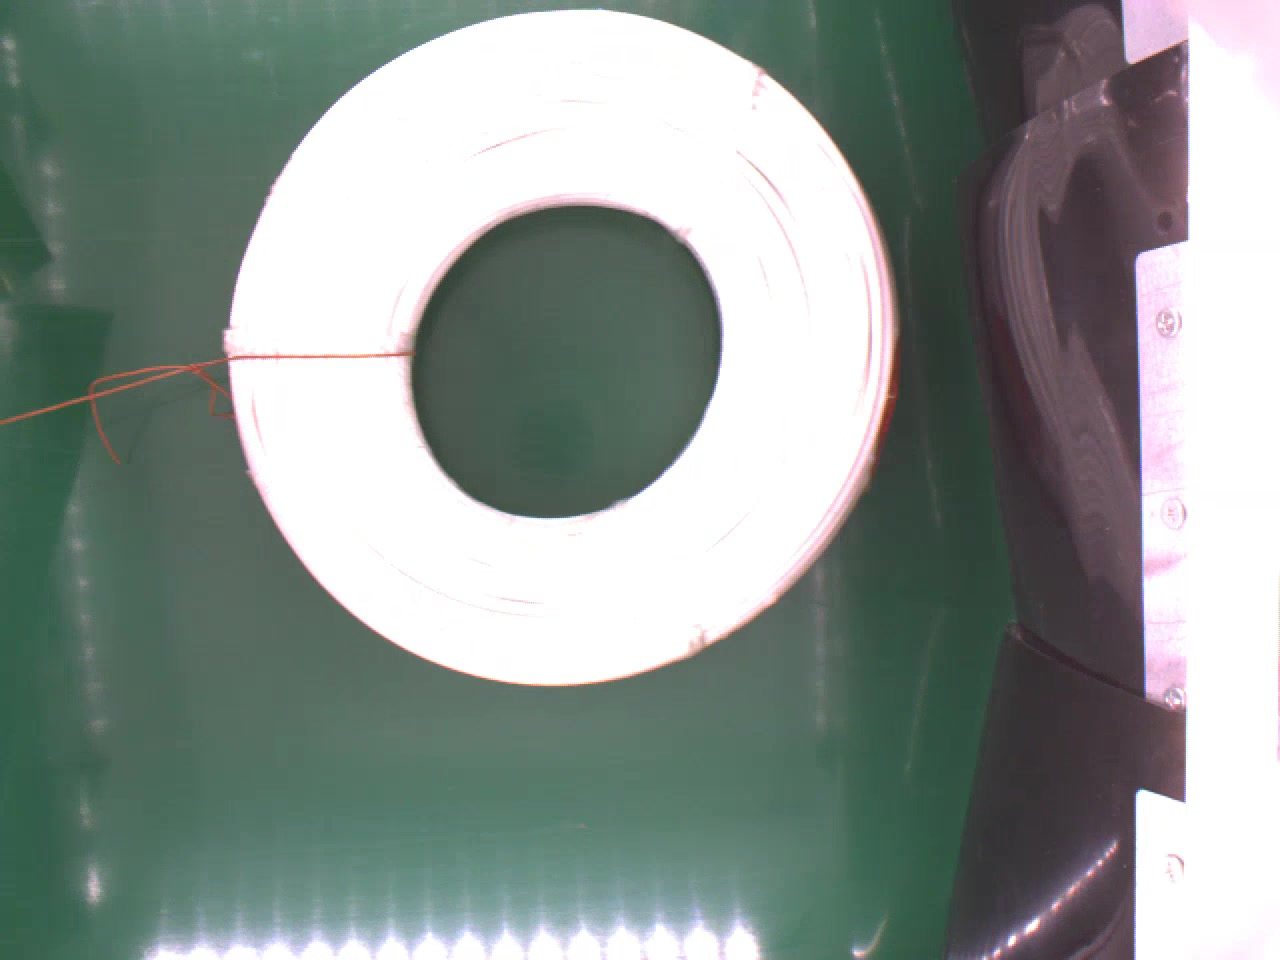white: (232, 5, 929, 689)
